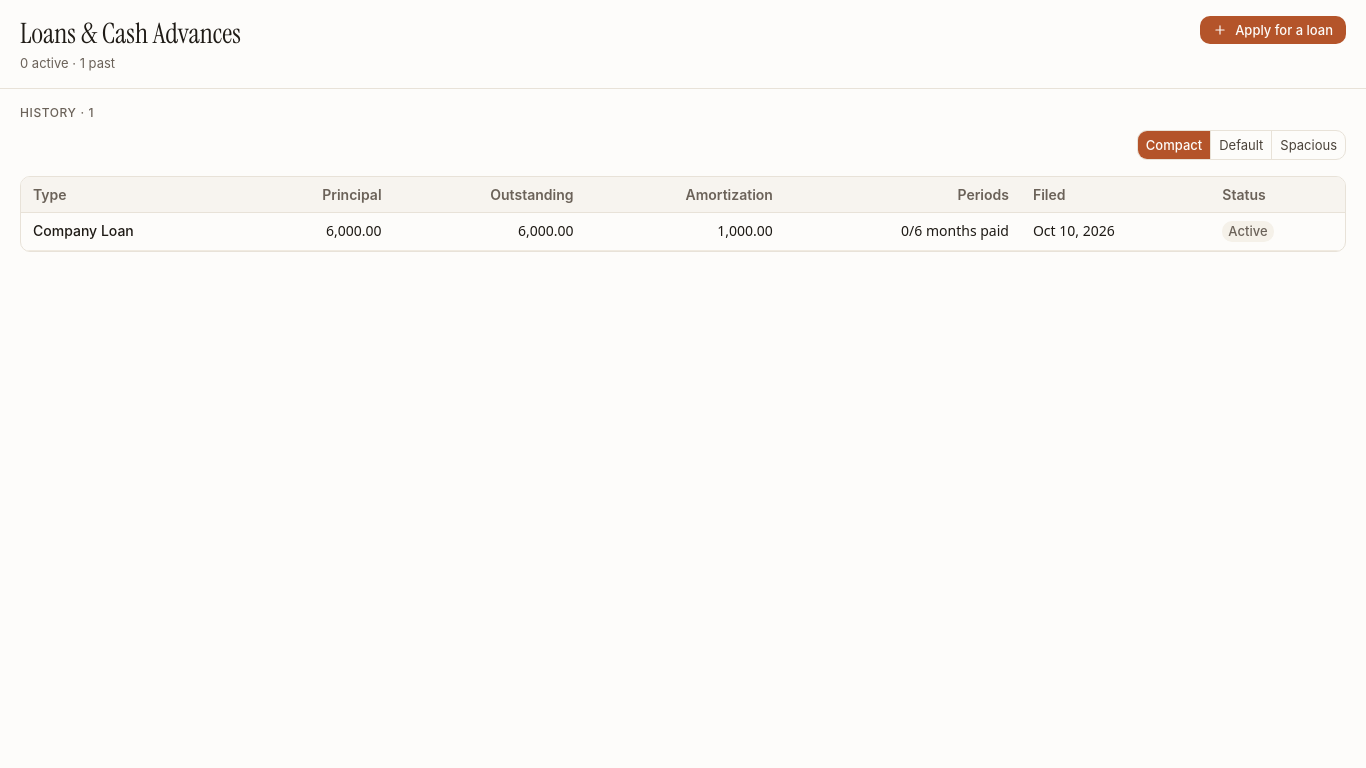
Scenario: allows employee application with only cancelled history
Click the button "Apply for a loan": (1273, 30) left=1200, top=16, right=1346, bottom=44
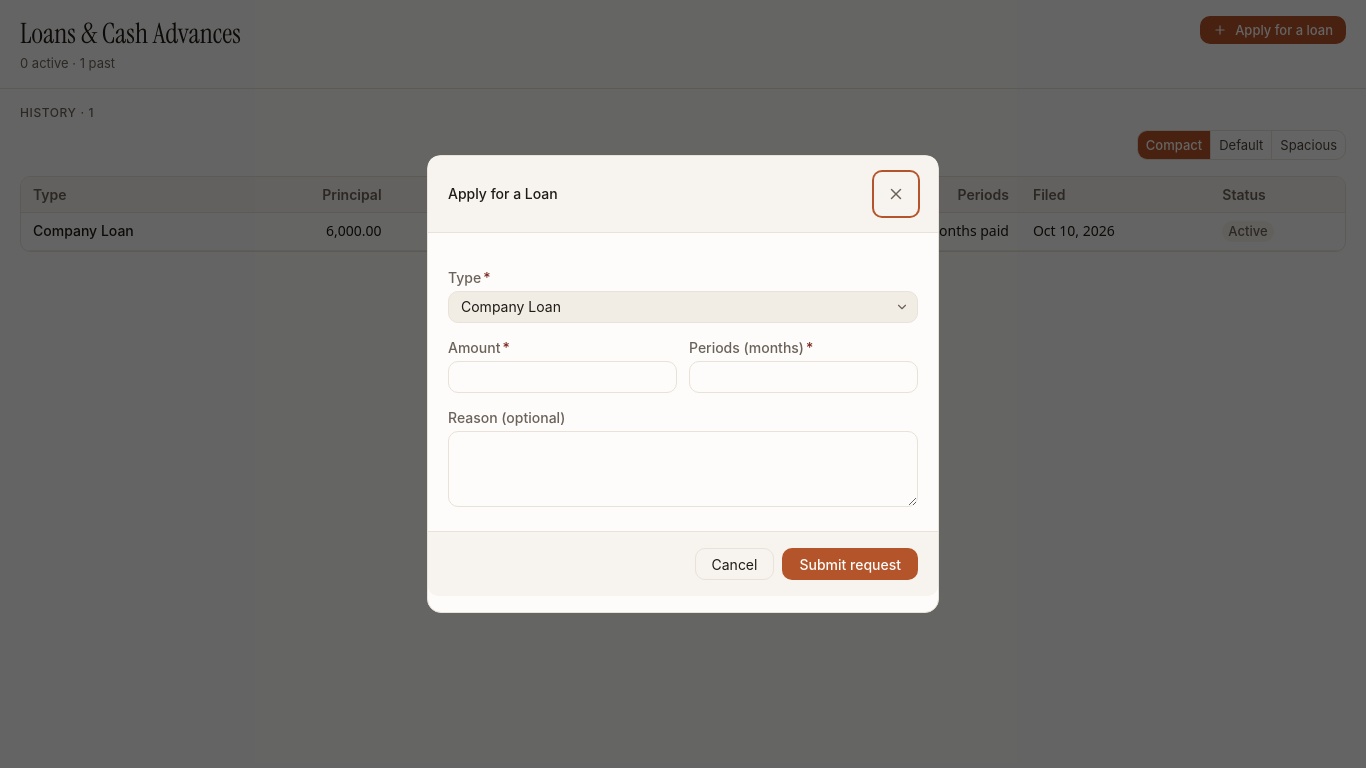
expect the dialog is shown: met
